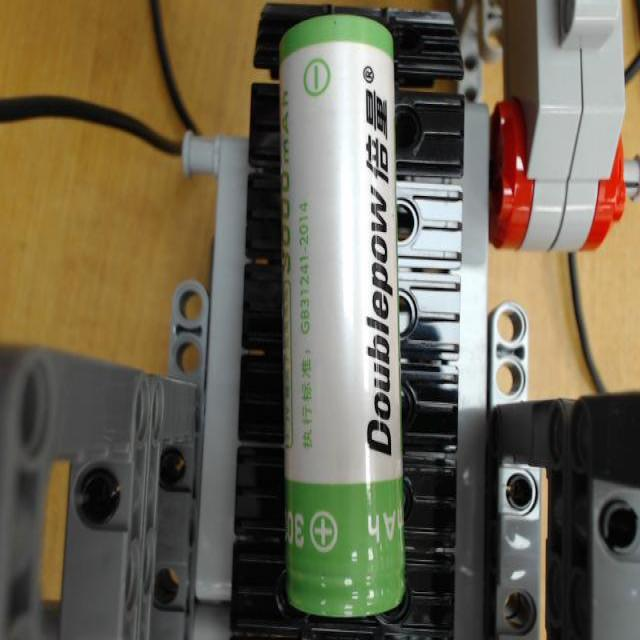AA: (276, 11, 407, 617)
